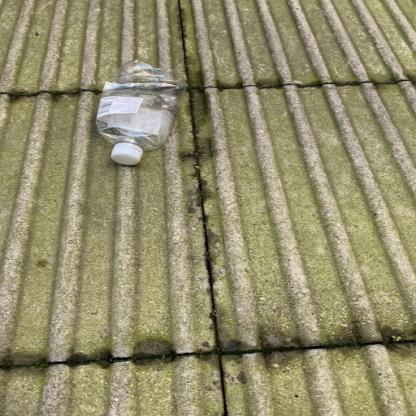trash: (92, 58, 187, 164)
